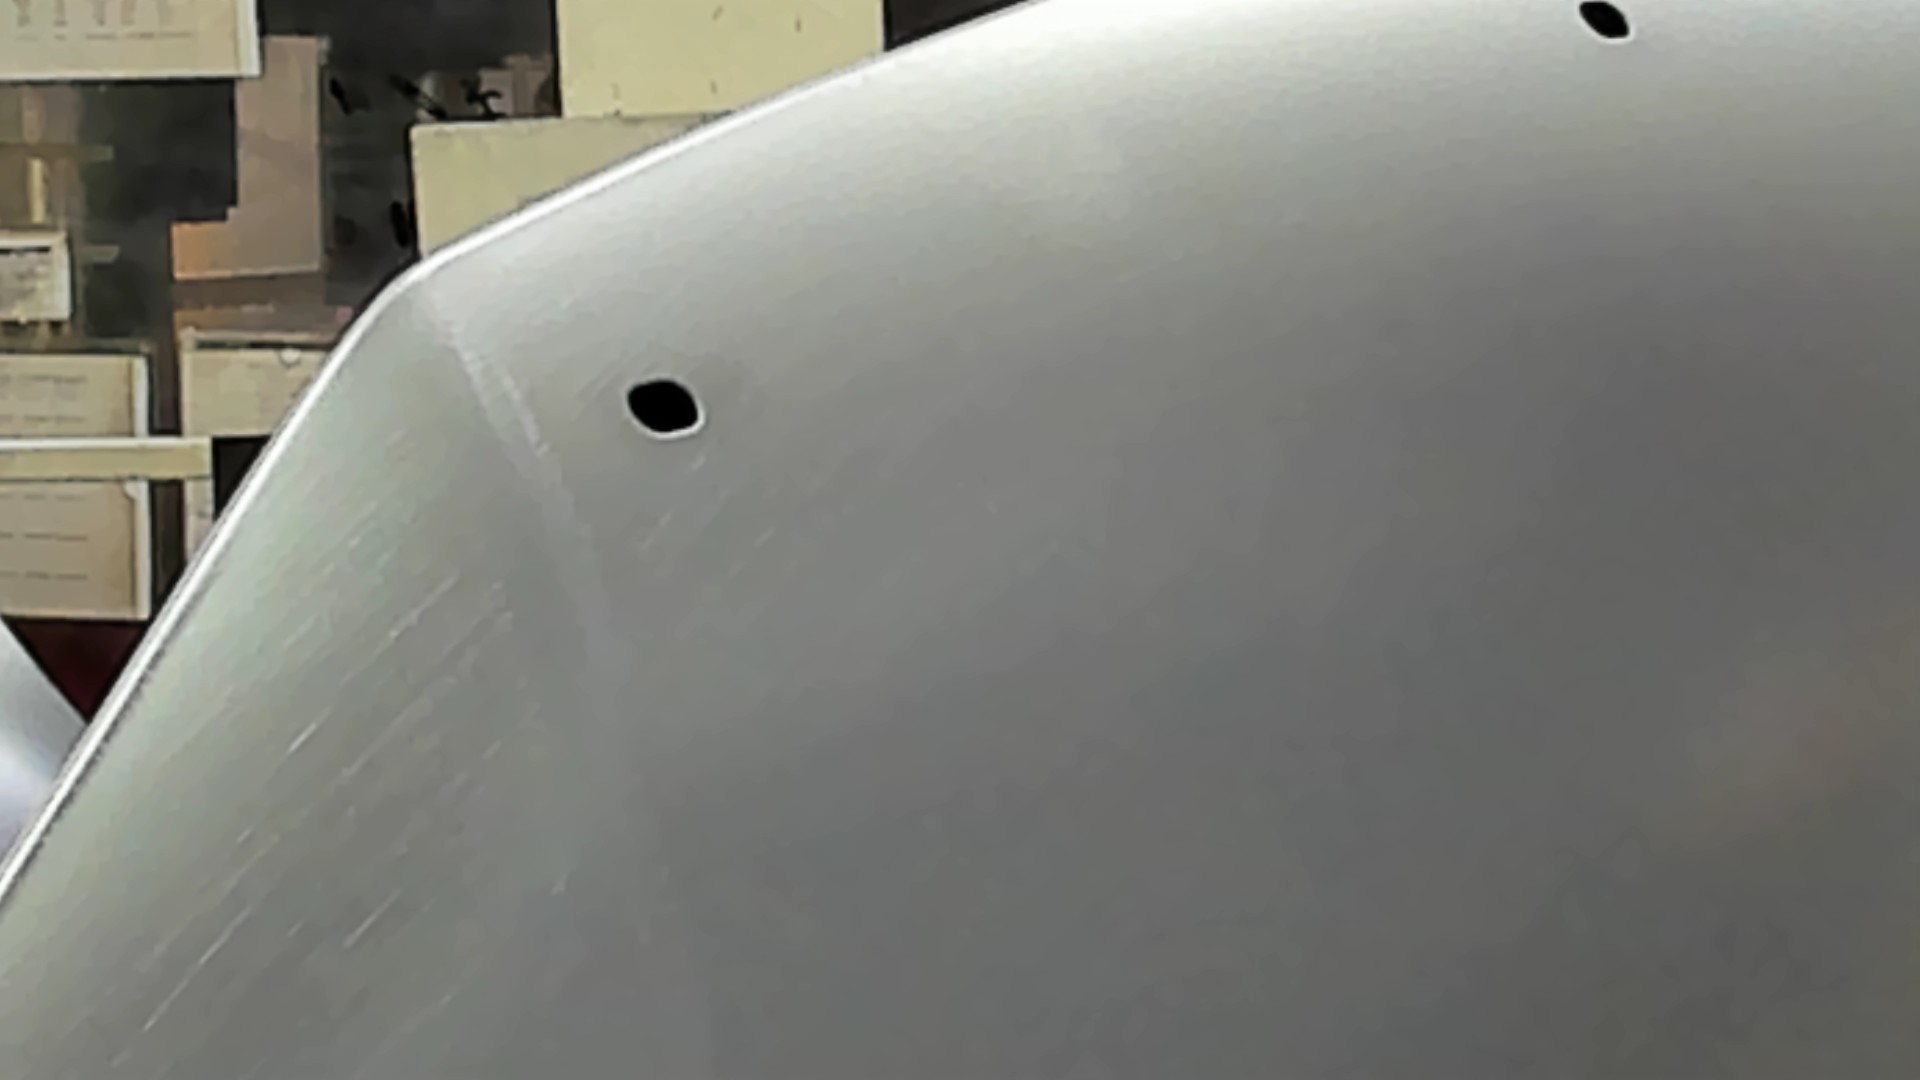amorfo: (621, 373, 707, 440), (1573, 1, 1633, 45)
capo: (852, 105, 1920, 1080)
